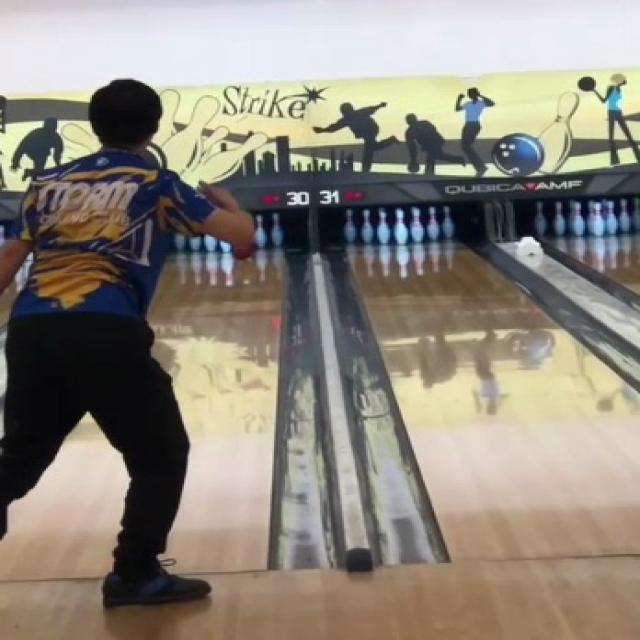alley: (149, 251, 283, 572), (0, 415, 127, 580)
balls: (232, 243, 256, 258)
bottle: (259, 213, 287, 248), (175, 235, 228, 252)
